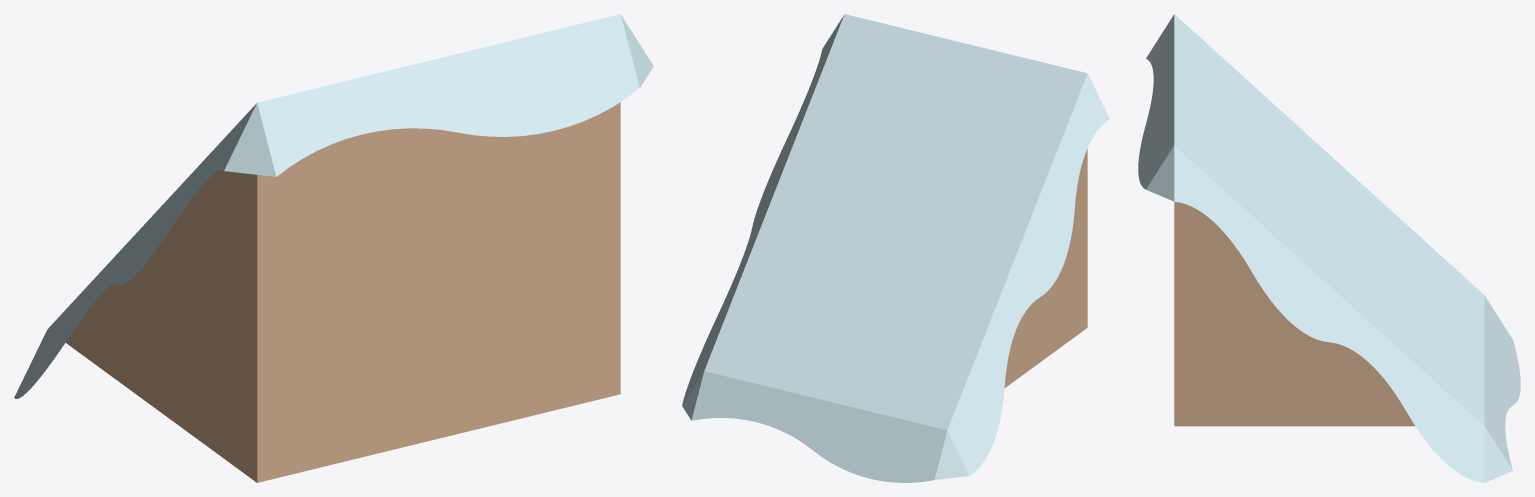
The model's file is blockSnowSlope.glb.
3 renders of one model, left to right at view 1: azimuth 30°, elevation 25°; view 2: azimuth 150°, elevation 25°; view 3: azimuth 270°, elevation 25°, orthographic. The views are drawn at different scales.
Visible parts, largest first — view 1: blockSnowSlope(Clone); view 2: blockSnowSlope(Clone); view 3: blockSnowSlope(Clone).
Boxes of the visible parts, x1,y1,x2,y2 form: blockSnowSlope(Clone): (14,14,653,482); blockSnowSlope(Clone): (682,14,1109,482); blockSnowSlope(Clone): (1138,14,1520,482).
Size of the model in its own units: 1.23 by 1.2 by 1.23.
